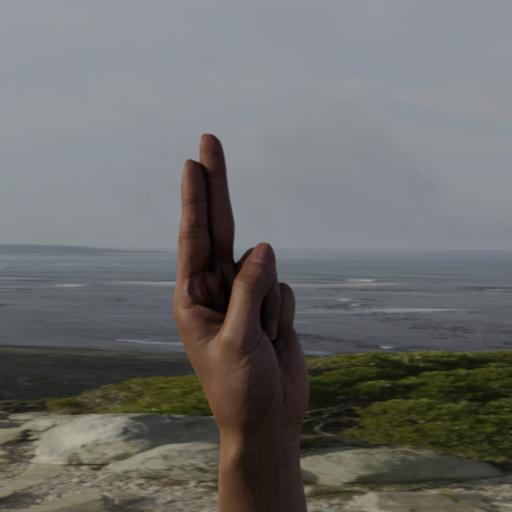U: (170, 118, 336, 512)
